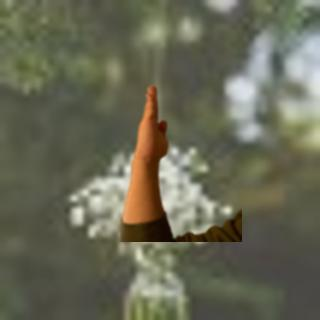RIGHT: (131, 80, 175, 167)
